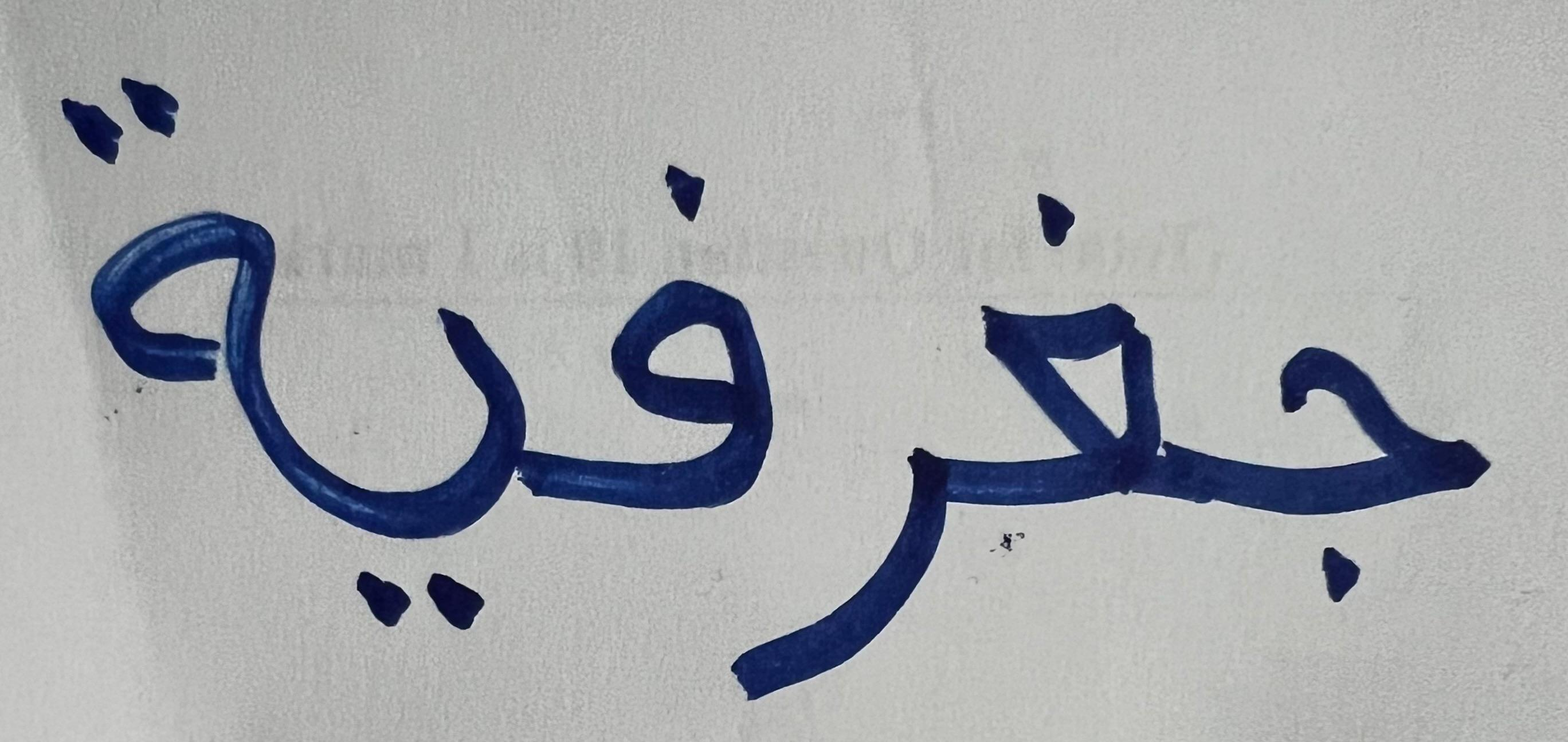feh: (543, 104, 776, 525)
ghain: (964, 122, 1192, 528)
kaf: (1195, 242, 1519, 652)
sad: (780, 352, 960, 700)
thal: (27, 39, 320, 574)
zah: (324, 230, 539, 680)
